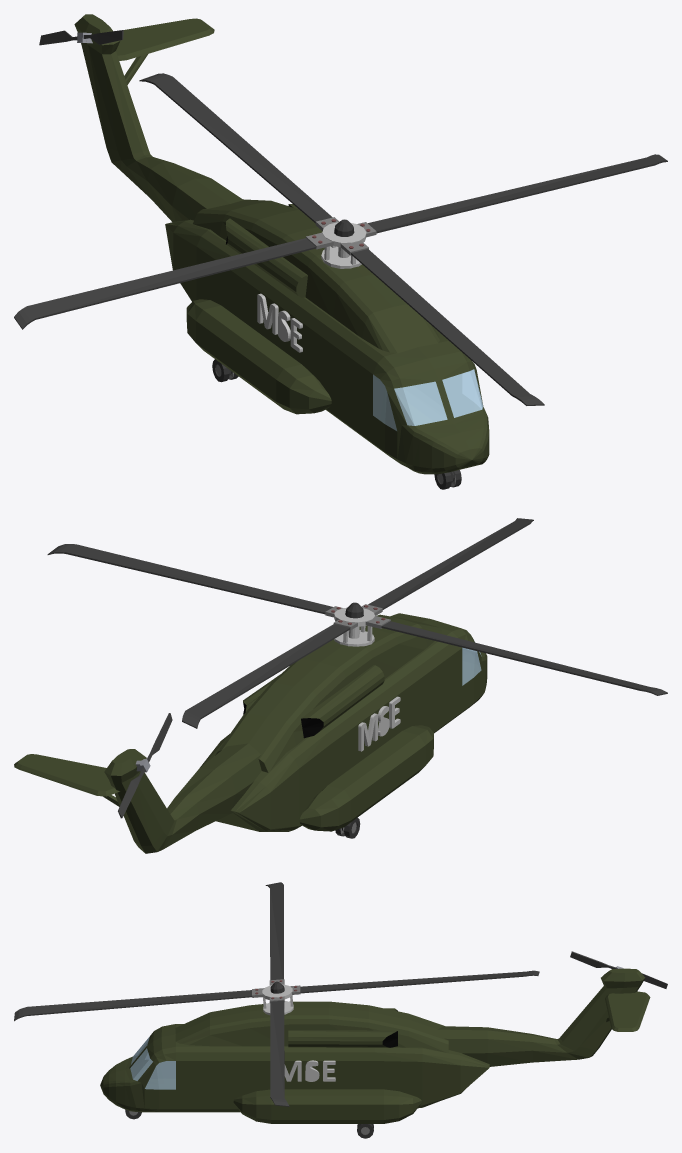
File: helicopter4_mse.obj
3 renders of one model, top to bottom at view 1: azimuth 30°, elevation 25°; view 2: azimuth 150°, elevation 25°; view 3: azimuth 270°, elevation 25°, orthographic. The views are drawn at different scales.
Parts seen in each view (by area): view 1: Mesh33_Group9_Group1_Model, Mesh58_Group1_Model, Mesh49_Group1_Model, Mesh34_Group13_Group1_Model, Mesh5_Group4_Group3_Group1_Model, Mesh17_Group6_Group3_Group1_Model, Mesh11_Group5_Group3_Group1_Model, Mesh23_Group7_Group3_Group1_Model, Mesh31_Group11_Group9_Group1_Model, Mesh59_Group1_Model, Mesh2_Group2_Group1_Model, Mesh32_Group12_Group9_Group1_Model; view 2: Mesh33_Group9_Group1_Model, Mesh58_Group1_Model, Mesh49_Group1_Model, Mesh34_Group13_Group1_Model, Mesh11_Group5_Group3_Group1_Model, Mesh17_Group6_Group3_Group1_Model, Mesh59_Group1_Model, Mesh5_Group4_Group3_Group1_Model, Mesh2_Group2_Group1_Model, Mesh23_Group7_Group3_Group1_Model, Mesh32_Group12_Group9_Group1_Model, Mesh61_MSE_1_1_Model; view 3: Mesh33_Group9_Group1_Model, Mesh58_Group1_Model, Mesh49_Group1_Model, Mesh35_Group14_Group1_Model, Mesh23_Group7_Group3_Group1_Model, Mesh1_Group2_Group1_Model, Mesh17_Group6_Group3_Group1_Model, Mesh11_Group5_Group3_Group1_Model, Mesh59_Group1_Model, Mesh5_Group4_Group3_Group1_Model, Mesh30_Group10_Group9_Group1_Model, Mesh31_Group11_Group9_Group1_Model.
Boxes of the visible parts, x1,y1,x2,y2 form: Mesh33_Group9_Group1_Model: (165,219,489,474); Mesh58_Group1_Model: (193,199,439,353); Mesh49_Group1_Model: (74,14,243,222); Mesh34_Group13_Group1_Model: (186,299,331,414); Mesh5_Group4_Group3_Group1_Model: (23,238,315,321); Mesh17_Group6_Group3_Group1_Model: (149,75,332,223); Mesh11_Group5_Group3_Group1_Model: (368,155,659,233); Mesh23_Group7_Group3_Group1_Model: (351,249,533,398); Mesh31_Group11_Group9_Group1_Model: (394,369,483,425); Mesh59_Group1_Model: (116,18,214,60); Mesh2_Group2_Group1_Model: (225,218,307,297); Mesh32_Group12_Group9_Group1_Model: (373,374,396,430); Mesh33_Group9_Group1_Model: (200,613,487,831); Mesh58_Group1_Model: (215,614,442,772); Mesh49_Group1_Model: (104,743,261,853); Mesh34_Group13_Group1_Model: (299,725,433,831); Mesh11_Group5_Group3_Group1_Model: (59,544,332,614); Mesh17_Group6_Group3_Group1_Model: (184,624,349,721); Mesh59_Group1_Model: (14,754,119,796); Mesh5_Group4_Group3_Group1_Model: (381,621,655,691); Mesh2_Group2_Group1_Model: (301,665,384,738); Mesh23_Group7_Group3_Group1_Model: (368,519,531,609); Mesh32_Group12_Group9_Group1_Model: (462,647,481,685); Mesh61_MSE_1_1_Model: (358,713,377,751); Mesh33_Group9_Group1_Model: (100,1024,489,1112); Mesh58_Group1_Model: (175,1001,448,1053); Mesh49_Group1_Model: (437,968,645,1066); Mesh35_Group14_Group1_Model: (233,1089,421,1123); Mesh23_Group7_Group3_Group1_Model: (22,990,252,1017); Mesh1_Group2_Group1_Model: (288,1030,397,1047); Mesh17_Group6_Group3_Group1_Model: (300,971,530,993); Mesh11_Group5_Group3_Group1_Model: (270,1000,285,1100); Mesh59_Group1_Model: (605,991,650,1031); Mesh5_Group4_Group3_Group1_Model: (268,883,283,980); Mesh30_Group10_Group9_Group1_Model: (145,1061,175,1089); Mesh31_Group11_Group9_Group1_Model: (130,1036,152,1080).
Bounding box in the file's own units: 60.86 × 20.54 × 75.48.
